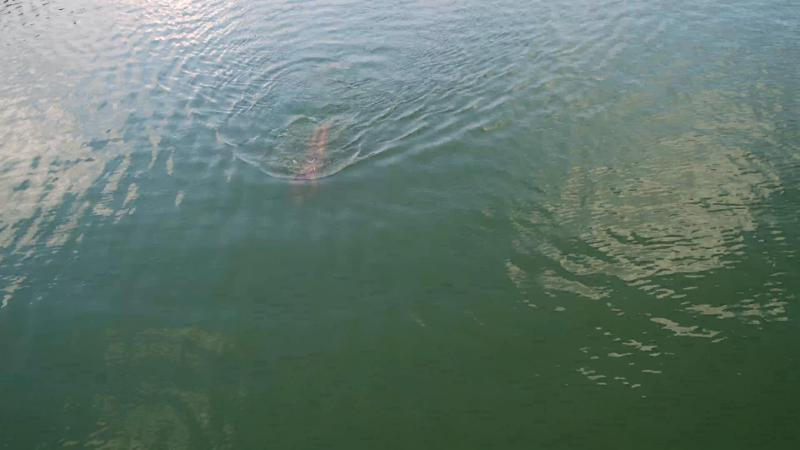passerby: (289, 123, 328, 191)
